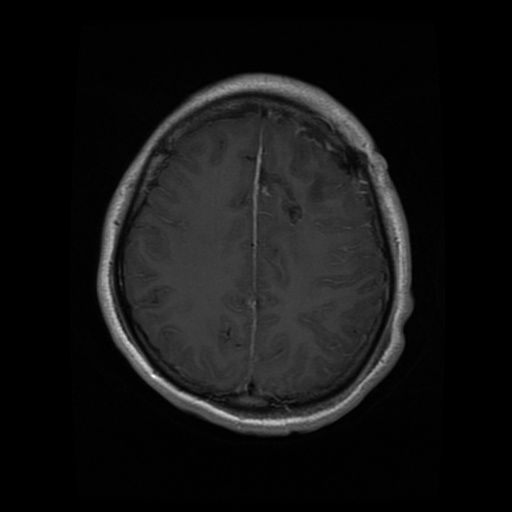glioma: (287, 122, 355, 201)
